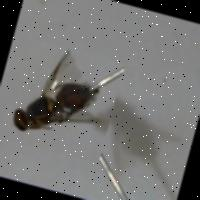Oriental-fruit-fly: (1, 37, 125, 164)
